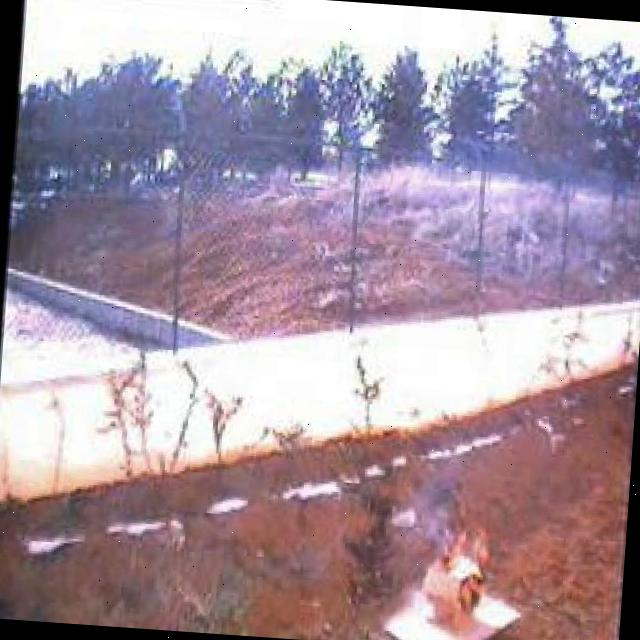fire: (411, 484, 498, 638)
